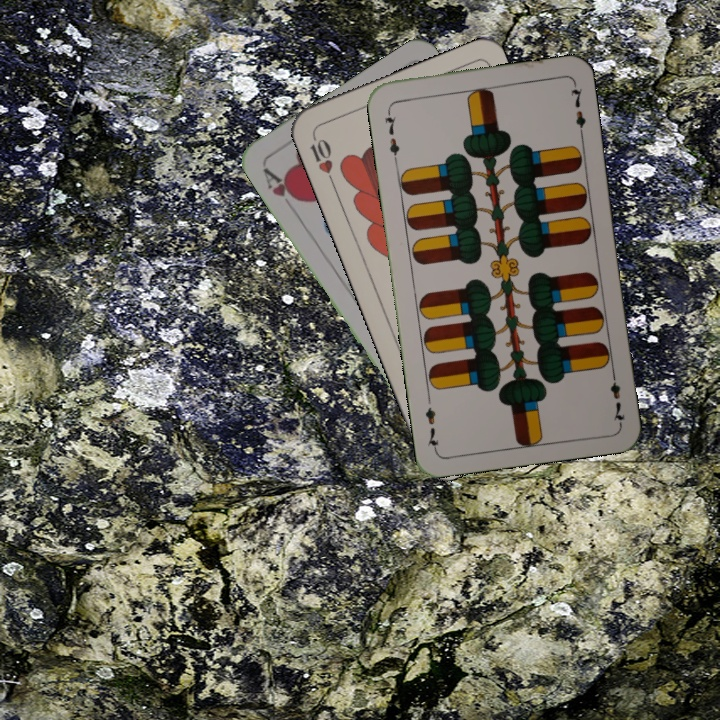E7: (380, 105, 402, 164), (606, 367, 628, 426)
H10: (306, 130, 337, 187)
HA: (259, 163, 304, 206)
